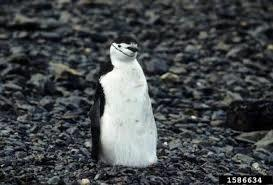chinstrap: (86, 34, 176, 171)
